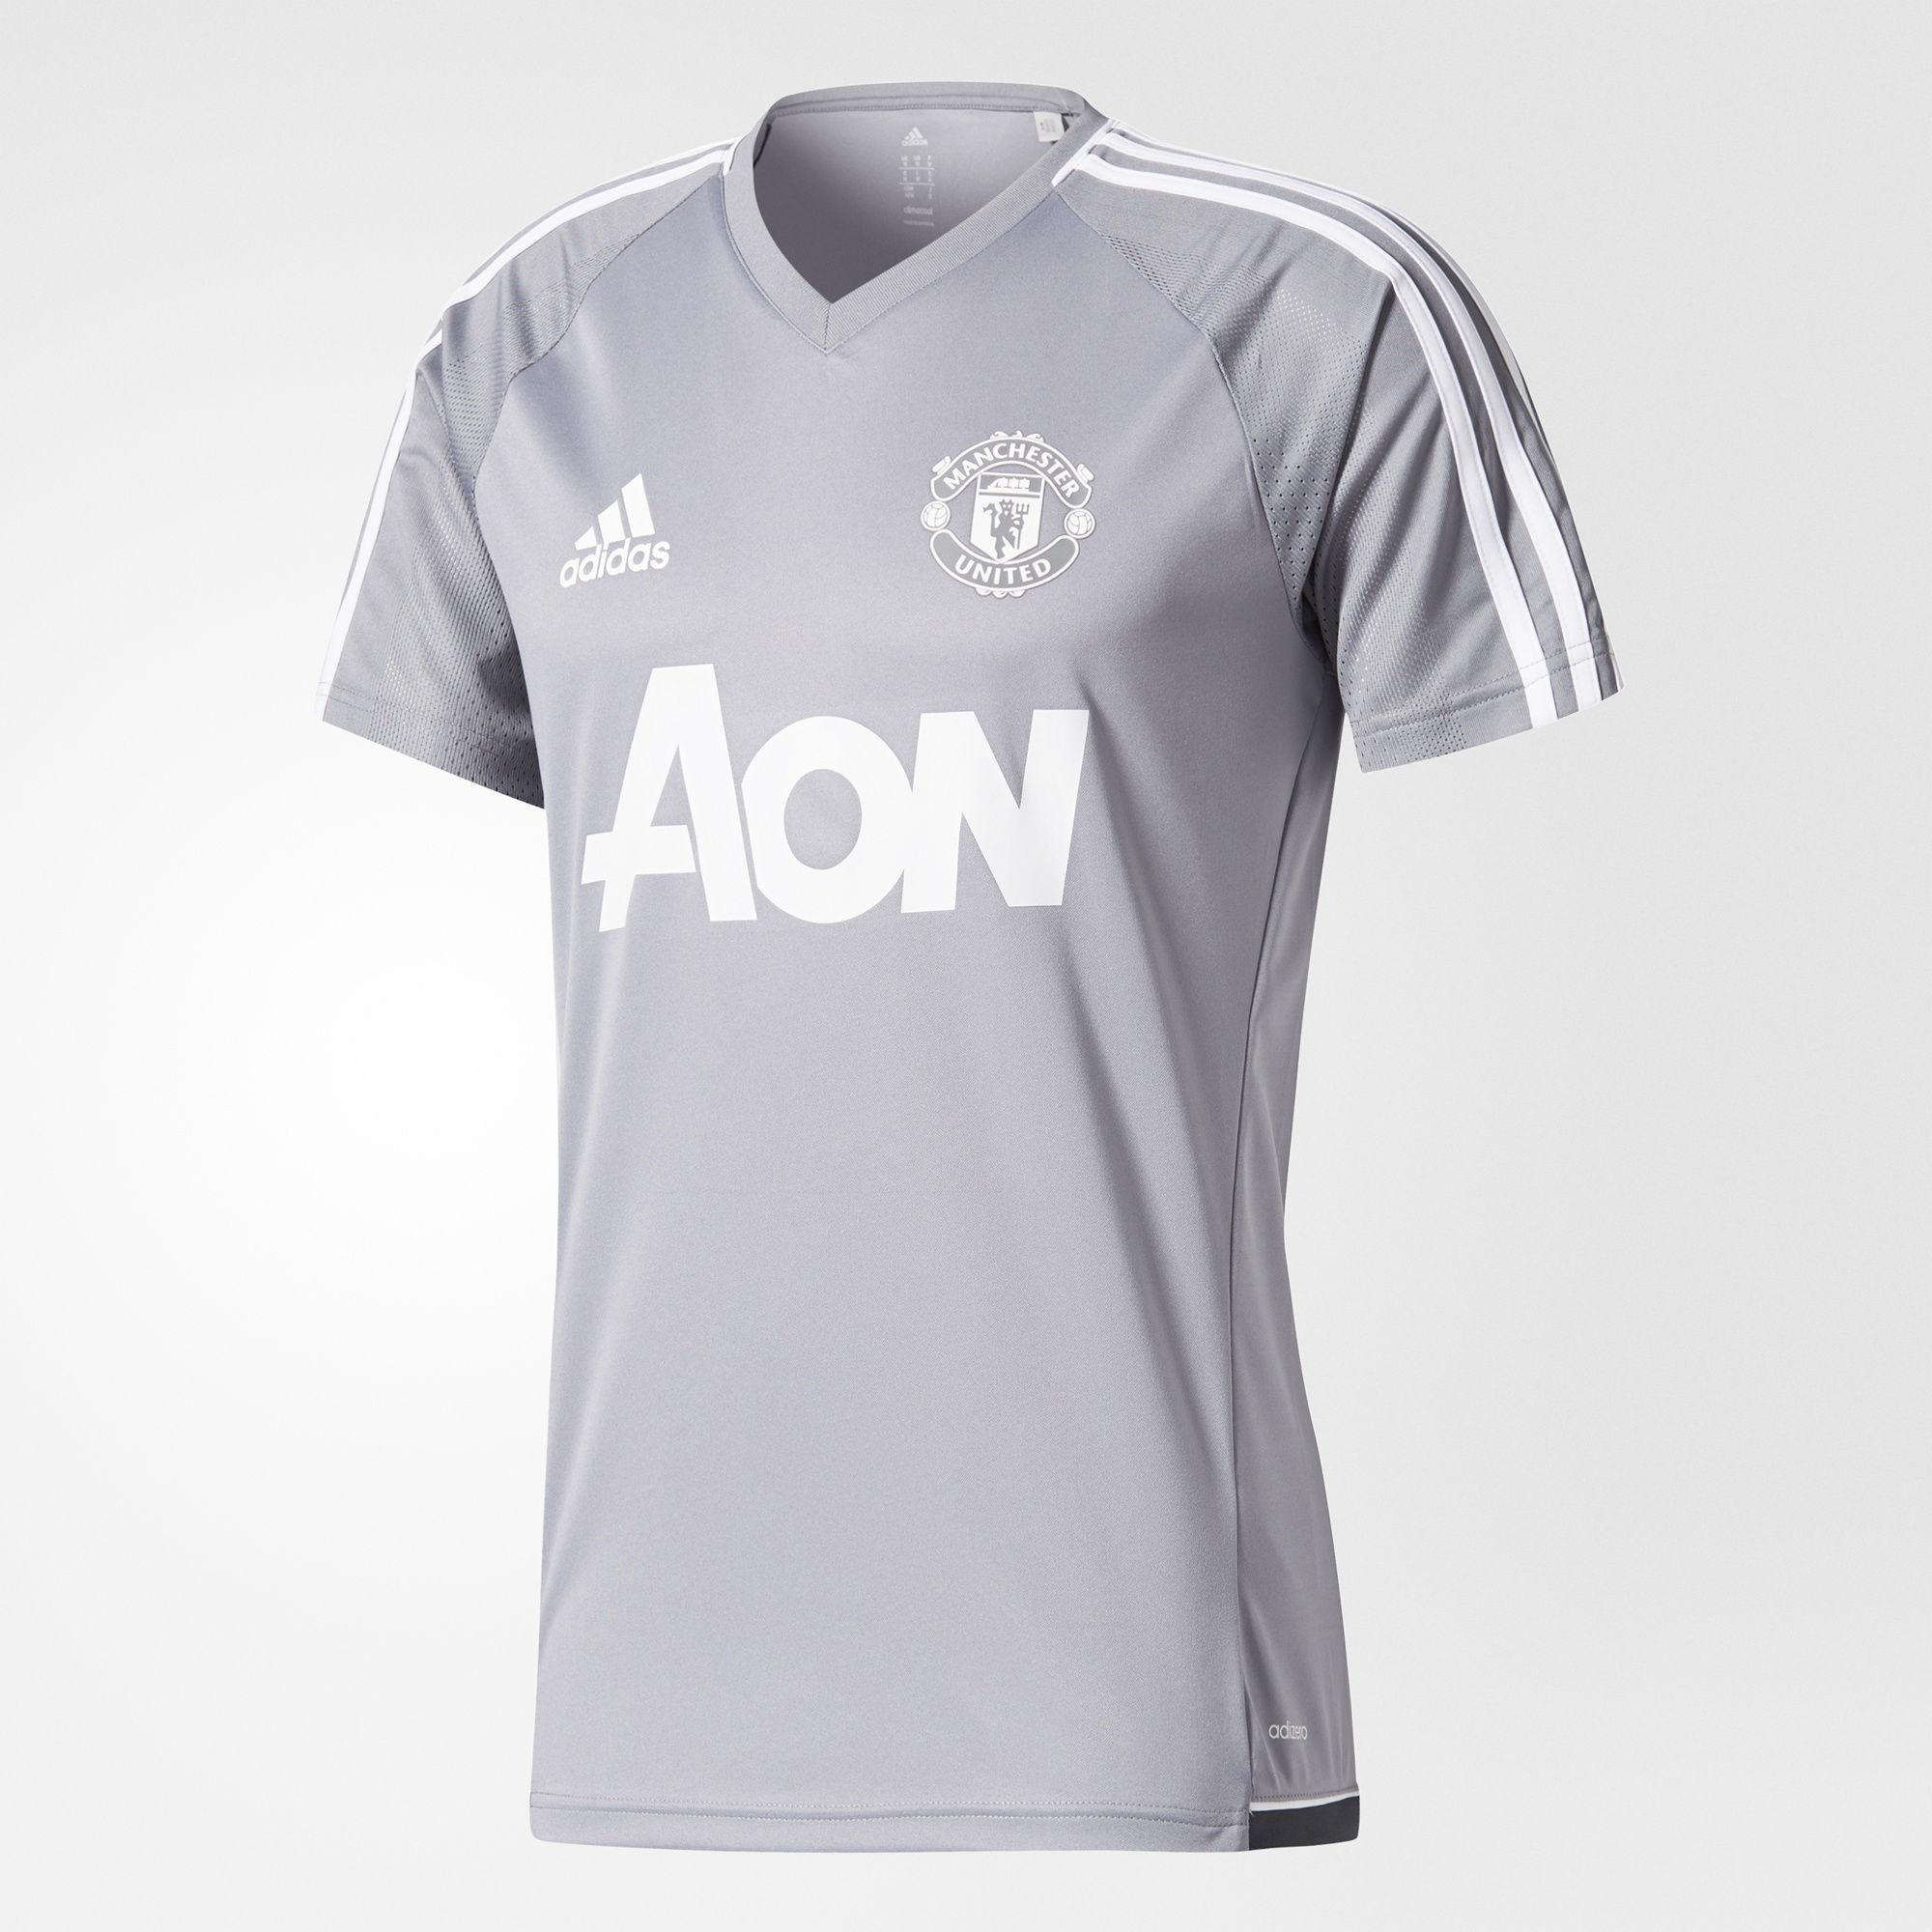teeshirt: (271, 76, 1675, 1877)
